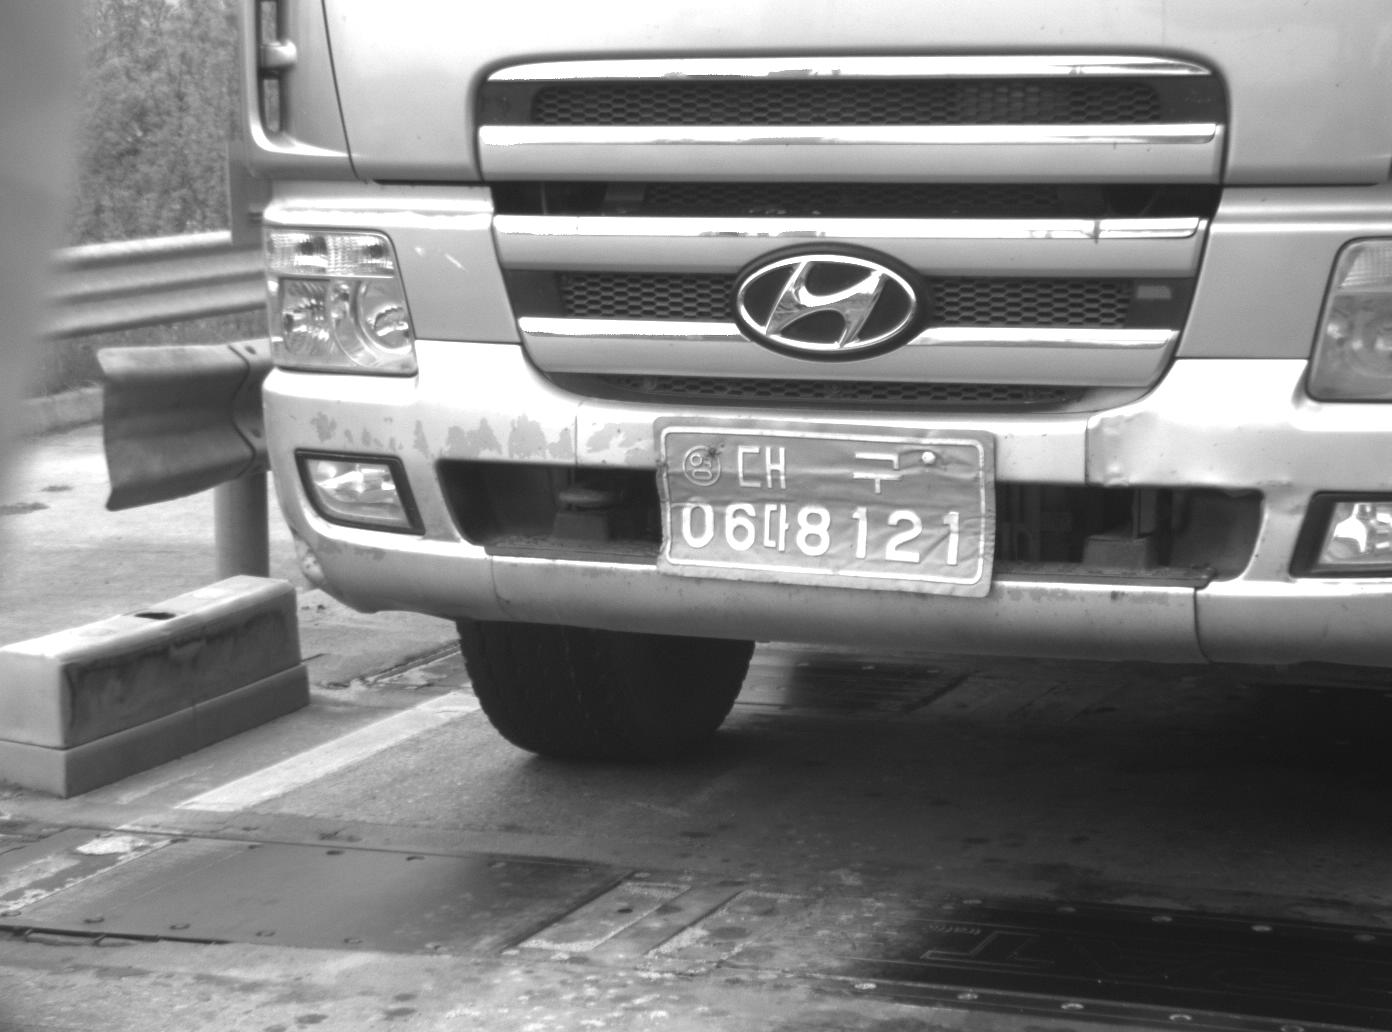car: (228, 1, 1390, 765)
plate: (658, 424, 993, 591)
